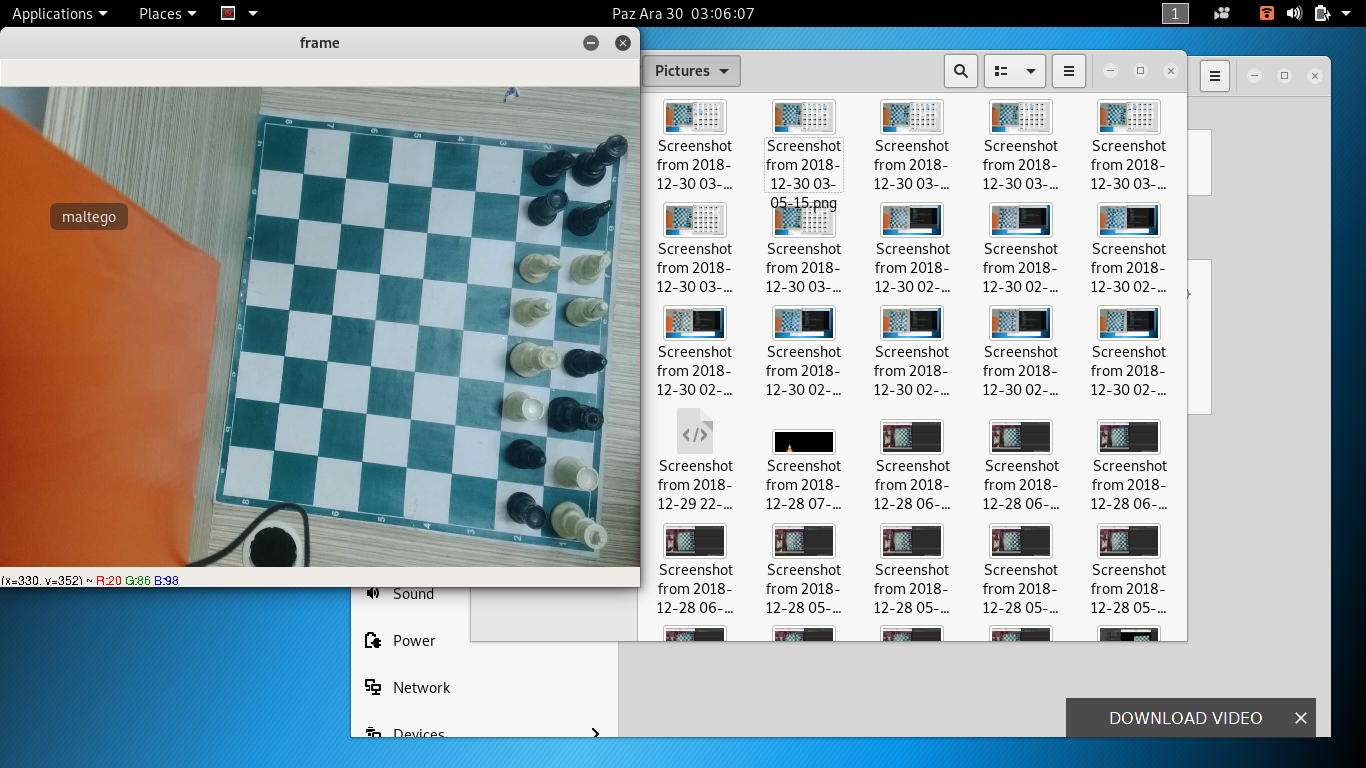BeyazAt: (519, 252, 562, 285), (571, 251, 612, 284)
BeyazFil: (564, 297, 608, 327), (513, 298, 552, 326)
BeyazKale: (556, 455, 599, 492), (504, 389, 544, 423)
BeyazSah: (551, 499, 608, 548)
BeyazVezir: (509, 340, 561, 379)
SiyahAt: (567, 199, 612, 237), (530, 148, 575, 183)
SiyahFil: (563, 347, 608, 376), (509, 438, 547, 468)
SiyahKale: (506, 490, 547, 531), (528, 189, 568, 226)
SiyahSah: (574, 135, 626, 185)
SiyahVezir: (547, 397, 604, 434)
